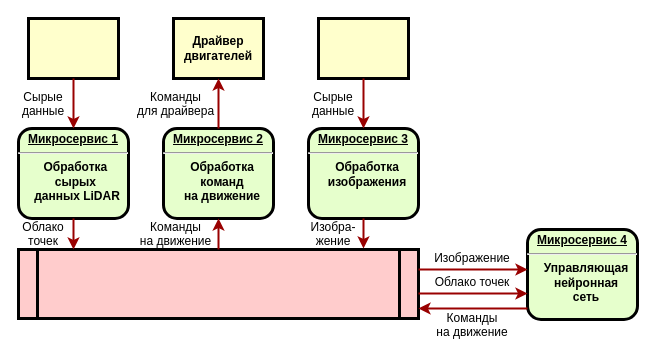
Image size: 656x357. Some labels were removed from this diagram. The centre of each missing label's shape, as x and y in pixels:
"LiDAR" goes at (73,48).
"Видеокамера" goes at (363,48).
"Сервер обмена данными" goes at (218,284).
